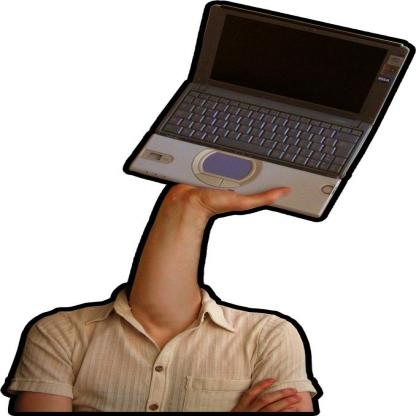board: (125, 0, 409, 223)
